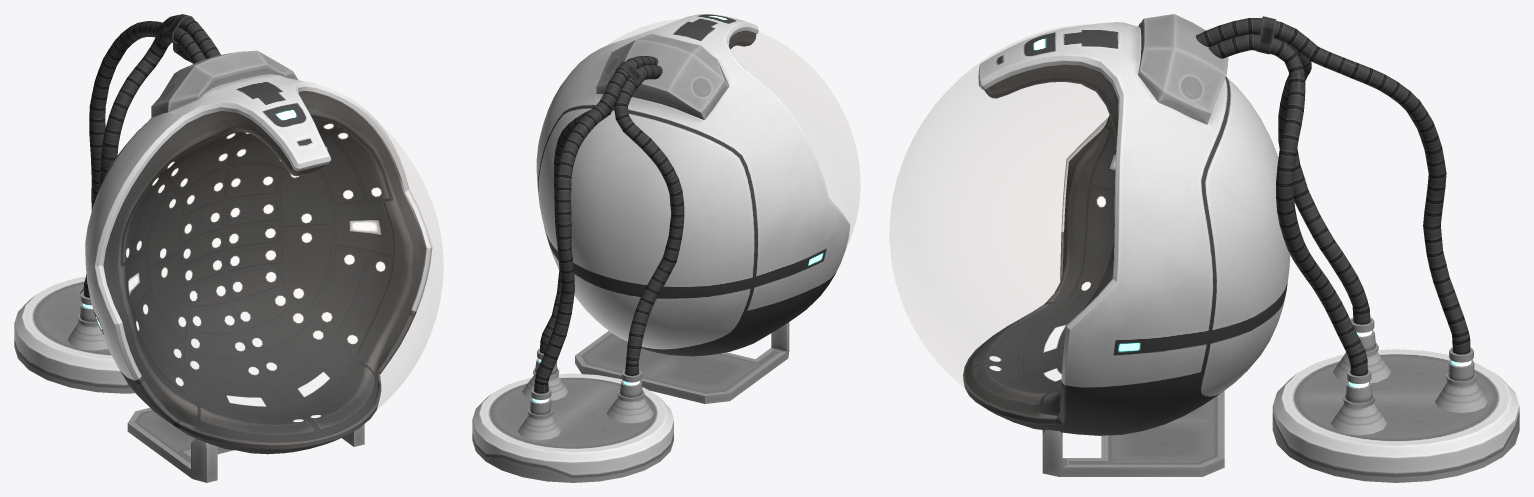
File: LabCapsuleWomb02.FBX
The picture shows the model from 3 angles, left to right: view 1: azimuth 30°, elevation 25°; view 2: azimuth 150°, elevation 25°; view 3: azimuth 270°, elevation 25°; orthographic projection. The views are drawn at different scales.
Parts seen in each view (by area): view 1: LabCapsuleWomb02, Glass; view 2: LabCapsuleWomb02, Glass; view 3: LabCapsuleWomb02, Glass.
Boxes of the visible parts, bbox=[...] form: LabCapsuleWomb02: bbox=[14, 14, 432, 482]; Glass: bbox=[351, 103, 442, 414]; LabCapsuleWomb02: bbox=[472, 14, 850, 482]; Glass: bbox=[608, 19, 859, 245]; LabCapsuleWomb02: bbox=[963, 14, 1519, 482]; Glass: bbox=[890, 25, 1108, 392].
Size of what is drawn, in the model's own units: 1.73 by 1.93 by 2.67.
